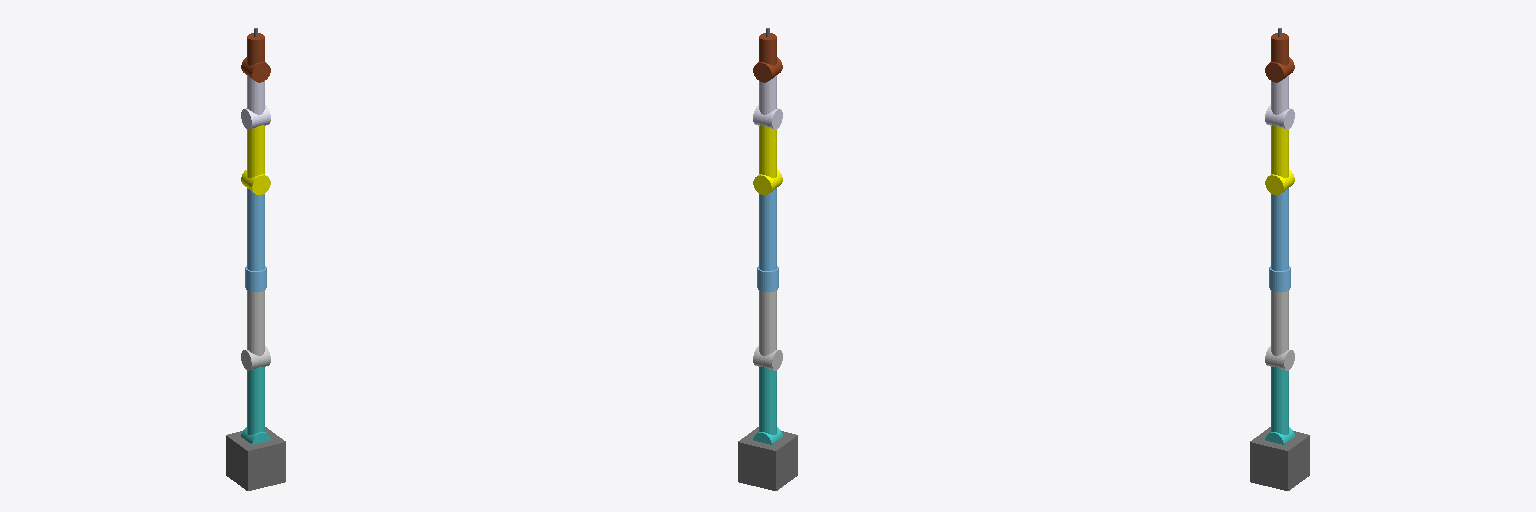
robot.urdf — test_robot:
<?xml version="1.0" ?>
<robot name="test_robot">
    <link name="base_link">
        <inertial>
            <mass value="1.0"/>
            <inertia ixx="0.010416666666666666" iyy="0.010416666666666666" izz="0.010416666666666666" ixy="0.0" ixz="0.0" iyz="0.0"/>
        </inertial>
        <visual>
            <origin xyz="0 0 0" rpy="0 0 0"/>
            <geometry>
                <box size="0.25 0.25 0.25"/>
            </geometry>
            <material name="gray">
                <color rgba="0.5 0.5 0.5 1"/>
            </material>
        </visual>
    </link>
    <joint name="joint_viz0" type="fixed">
        <parent link="base_link"/>
        <child link="joint_viz_link0"/>
        <origin xyz="0 0 0.125" rpy="0 0 0"/>
    </joint>
    <link name="joint_viz_link0">
        <inertial>
            <mass value="1.0"/>
            <inertia ixx="0.0022020833333333332" iyy="0.0022020833333333332" izz="0.0018" ixy="0.0" ixz="0.0" iyz="0.0"/>
        </inertial>
        <visual>
            <origin xyz="0 0 0" rpy="1.57 0 0"/>
            <geometry>
                <cylinder length="0.125" radius="0.06"/>
            </geometry>
            <material name="mediumturquoise">
                <color rgba="0.2823529411764706 0.8196078431372549 0.8 1.0"/>
            </material>
        </visual>
    </link>
    <joint name="joint0" type="revolute">
        <parent link="base_link"/>
        <child link="link0"/>
        <origin xyz="0 0 0.125" rpy="0 0 0"/>
        <axis xyz="0 1 0"/>
        <limit lower="-3.14" upper="3.14" effort="10" velocity="1"/>
    </joint>
    <link name="link0">
        <inertial>
            <mass value="1.0"/>
            <inertia ixx="0.021458333333333333" iyy="0.021458333333333333" izz="0.0012500000000000002" ixy="0.0" ixz="0.0" iyz="0.0"/>
        </inertial>
        <visual>
            <origin xyz="0 0 0.25" rpy="0 0 0"/>
            <geometry>
                <cylinder length="0.5" radius="0.05"/>
            </geometry>
            <material name="mediumturquoise">
                <color rgba="0.2823529411764706 0.8196078431372549 0.8 1.0"/>
            </material>
        </visual>
    </link>
    <joint name="joint_viz1" type="fixed">
        <parent link="link0"/>
        <child link="joint_viz_link1"/>
        <origin xyz="0 0 0.5" rpy="0 0 0"/>
    </joint>
    <link name="joint_viz_link1">
        <inertial>
            <mass value="1.0"/>
            <inertia ixx="0.0022020833333333332" iyy="0.0022020833333333332" izz="0.0018" ixy="0.0" ixz="0.0" iyz="0.0"/>
        </inertial>
        <visual>
            <origin xyz="0 0 0" rpy="0 1.57 0"/>
            <geometry>
                <cylinder length="0.125" radius="0.06"/>
            </geometry>
            <material name="lightgray">
                <color rgba="0.8274509803921568 0.8274509803921568 0.8274509803921568 1.0"/>
            </material>
        </visual>
    </link>
    <joint name="joint1" type="revolute">
        <parent link="link0"/>
        <child link="link1"/>
        <origin xyz="0 0 0.5" rpy="0 0 0"/>
        <axis xyz="1 0 0"/>
        <limit lower="-3.14" upper="3.14" effort="10" velocity="1"/>
    </joint>
    <link name="link1">
        <inertial>
            <mass value="1.0"/>
            <inertia ixx="0.021458333333333333" iyy="0.021458333333333333" izz="0.0012500000000000002" ixy="0.0" ixz="0.0" iyz="0.0"/>
        </inertial>
        <visual>
            <origin xyz="0 0 0.25" rpy="0 0 0"/>
            <geometry>
                <cylinder length="0.5" radius="0.05"/>
            </geometry>
            <material name="lightgray">
                <color rgba="0.8274509803921568 0.8274509803921568 0.8274509803921568 1.0"/>
            </material>
        </visual>
    </link>
    <joint name="joint_viz2" type="fixed">
        <parent link="link1"/>
        <child link="joint_viz_link2"/>
        <origin xyz="0 0 0.5" rpy="0 0 0"/>
    </joint>
    <link name="joint_viz_link2">
        <inertial>
            <mass value="1.0"/>
            <inertia ixx="0.0022020833333333332" iyy="0.0022020833333333332" izz="0.0018" ixy="0.0" ixz="0.0" iyz="0.0"/>
        </inertial>
        <visual>
            <origin xyz="0 0 0" rpy="0 0 0"/>
            <geometry>
                <cylinder length="0.125" radius="0.06"/>
            </geometry>
            <material name="lightskyblue">
                <color rgba="0.5294117647058824 0.807843137254902 0.9803921568627451 1.0"/>
            </material>
        </visual>
    </link>
    <joint name="joint2" type="revolute">
        <parent link="link1"/>
        <child link="link2"/>
        <origin xyz="0 0 0.5" rpy="0 0 0"/>
        <axis xyz="0 0 1"/>
        <limit lower="-3.14" upper="3.14" effort="10" velocity="1"/>
    </joint>
    <link name="link2">
        <inertial>
            <mass value="1.0"/>
            <inertia ixx="0.030625" iyy="0.030625" izz="0.0012500000000000002" ixy="0.0" ixz="0.0" iyz="0.0"/>
        </inertial>
        <visual>
            <origin xyz="0 0 0.3" rpy="0 0 0"/>
            <geometry>
                <cylinder length="0.6" radius="0.05"/>
            </geometry>
            <material name="lightskyblue">
                <color rgba="0.5294117647058824 0.807843137254902 0.9803921568627451 1.0"/>
            </material>
        </visual>
    </link>
    <joint name="joint_viz3" type="fixed">
        <parent link="link2"/>
        <child link="joint_viz_link3"/>
        <origin xyz="0 0 0.6" rpy="0 0 0"/>
    </joint>
    <link name="joint_viz_link3">
        <inertial>
            <mass value="1.0"/>
            <inertia ixx="0.0022020833333333332" iyy="0.0022020833333333332" izz="0.0018" ixy="0.0" ixz="0.0" iyz="0.0"/>
        </inertial>
        <visual>
            <origin xyz="0 0 0" rpy="1.57 0 0"/>
            <geometry>
                <cylinder length="0.125" radius="0.06"/>
            </geometry>
            <material name="yellow">
                <color rgba="1.0 1.0 0.0 1.0"/>
            </material>
        </visual>
    </link>
    <joint name="joint3" type="revolute">
        <parent link="link2"/>
        <child link="link3"/>
        <origin xyz="0 0 0.6" rpy="0 0 0"/>
        <axis xyz="0 1 0"/>
        <limit lower="-3.14" upper="3.14" effort="10" velocity="1"/>
    </joint>
    <link name="link3">
        <inertial>
            <mass value="1.0"/>
            <inertia ixx="0.013958333333333336" iyy="0.013958333333333336" izz="0.0012500000000000002" ixy="0.0" ixz="0.0" iyz="0.0"/>
        </inertial>
        <visual>
            <origin xyz="0 0 0.2" rpy="0 0 0"/>
            <geometry>
                <cylinder length="0.4" radius="0.05"/>
            </geometry>
            <material name="yellow">
                <color rgba="1.0 1.0 0.0 1.0"/>
            </material>
        </visual>
    </link>
    <joint name="joint_viz4" type="fixed">
        <parent link="link3"/>
        <child link="joint_viz_link4"/>
        <origin xyz="0 0 0.4" rpy="0 0 0"/>
    </joint>
    <link name="joint_viz_link4">
        <inertial>
            <mass value="1.0"/>
            <inertia ixx="0.0022020833333333332" iyy="0.0022020833333333332" izz="0.0018" ixy="0.0" ixz="0.0" iyz="0.0"/>
        </inertial>
        <visual>
            <origin xyz="0 0 0" rpy="0 1.57 0"/>
            <geometry>
                <cylinder length="0.125" radius="0.06"/>
            </geometry>
            <material name="lavender">
                <color rgba="0.9019607843137255 0.9019607843137255 0.9803921568627451 1.0"/>
            </material>
        </visual>
    </link>
    <joint name="joint4" type="revolute">
        <parent link="link3"/>
        <child link="link4"/>
        <origin xyz="0 0 0.4" rpy="0 0 0"/>
        <axis xyz="1 0 0"/>
        <limit lower="-3.14" upper="3.14" effort="10" velocity="1"/>
    </joint>
    <link name="link4">
        <inertial>
            <mass value="1.0"/>
            <inertia ixx="0.008125" iyy="0.008125" izz="0.0012500000000000002" ixy="0.0" ixz="0.0" iyz="0.0"/>
        </inertial>
        <visual>
            <origin xyz="0 0 0.15" rpy="0 0 0"/>
            <geometry>
                <cylinder length="0.3" radius="0.05"/>
            </geometry>
            <material name="lavender">
                <color rgba="0.9019607843137255 0.9019607843137255 0.9803921568627451 1.0"/>
            </material>
        </visual>
    </link>
    <joint name="joint_viz5" type="fixed">
        <parent link="link4"/>
        <child link="joint_viz_link5"/>
        <origin xyz="0 0 0.3" rpy="0 0 0"/>
    </joint>
    <link name="joint_viz_link5">
        <inertial>
            <mass value="1.0"/>
            <inertia ixx="0.0022020833333333332" iyy="0.0022020833333333332" izz="0.0018" ixy="0.0" ixz="0.0" iyz="0.0"/>
        </inertial>
        <visual>
            <origin xyz="0 0 0" rpy="1.57 0 0"/>
            <geometry>
                <cylinder length="0.125" radius="0.06"/>
            </geometry>
            <material name="sienna">
                <color rgba="0.6274509803921569 0.3215686274509804 0.17647058823529413 1.0"/>
            </material>
        </visual>
    </link>
    <joint name="joint5" type="revolute">
        <parent link="link4"/>
        <child link="link5"/>
        <origin xyz="0 0 0.3" rpy="0 0 0"/>
        <axis xyz="0 1 0"/>
        <limit lower="-3.14" upper="3.14" effort="10" velocity="1"/>
    </joint>
    <link name="link5">
        <inertial>
            <mass value="1.0"/>
            <inertia ixx="0.003958333333333334" iyy="0.003958333333333334" izz="0.0012500000000000002" ixy="0.0" ixz="0.0" iyz="0.0"/>
        </inertial>
        <visual>
            <origin xyz="0 0 0.1" rpy="0 0 0"/>
            <geometry>
                <cylinder length="0.2" radius="0.05"/>
            </geometry>
            <material name="sienna">
                <color rgba="0.6274509803921569 0.3215686274509804 0.17647058823529413 1.0"/>
            </material>
        </visual>
    </link>
    <joint name="probe_joint" type="fixed">
        <parent link="link5"/>
        <child link="probe_link"/>
        <origin xyz="0 0 0.2" rpy="0 0 0"/>
    </joint>
    <link name="probe_link">
        <inertial>
            <mass value="1.0"/>
            <inertia ixx="0.0008583333333333335" iyy="0.0008583333333333335" izz="5e-05" ixy="0.0" ixz="0.0" iyz="0.0"/>
        </inertial>
        <visual>
            <origin xyz="0 0 0" rpy="0 0 0"/>
            <geometry>
                <cylinder length="0.1" radius="0.01"/>
            </geometry>
            <material name="gray">
                <color rgba="0.5 0.5 0.5 1"/>
            </material>
        </visual>
    </link>
    <joint name="end_effector_joint" type="fixed">
        <parent link="probe_link"/>
        <child link="end_effector"/>
        <origin xyz="0 0 0.1" rpy="0 0 0"/>
    </joint>
    <link name="end_effector">
        <inertial>
            <mass value="1.0"/>
            <inertia ixx="0.0" iyy="0.0" izz="0.0" ixy="0.0" ixz="0.0" iyz="0.0"/>
        </inertial>
        <visual>
            <origin xyz="0 0 0" rpy="0 0 0"/>
            <geometry>
                <cylinder length="0" radius="0"/>
            </geometry>
            <material name="gray">
                <color rgba="0.5 0.5 0.5 1"/>
            </material>
        </visual>
    </link>
</robot>

--- Facts derived from the render (not from the file) ---
Views: 3 orthographic renders of the robot side by side, from view 1: azimuth 30°, elevation 25°; view 2: azimuth 150°, elevation 25°; view 3: azimuth 330°, elevation 25°.
Model test_robot with 15 links and 14 joints (6 revolute, 8 fixed), rooted at base_link, posed all joints at 0.
Links seen in each view (by area): view 1: base_link, link2, link0, link1, link3, link4; view 2: base_link, link2, link0, link1, link3, link4; view 3: base_link, link2, link0, link1, link3, link4.
Boxes of the visible links, x1,y1,x2,y2 form: base_link: [226, 427, 285, 490]; link2: [247, 188, 264, 270]; link0: [247, 366, 264, 434]; link1: [247, 290, 264, 355]; link3: [247, 125, 264, 177]; link4: [247, 75, 264, 114]; base_link: [738, 427, 797, 490]; link2: [759, 188, 776, 270]; link0: [759, 366, 776, 434]; link1: [759, 290, 776, 355]; link3: [759, 125, 776, 177]; link4: [759, 75, 776, 114]; base_link: [1250, 427, 1309, 490]; link2: [1271, 188, 1288, 270]; link0: [1271, 366, 1288, 434]; link1: [1271, 290, 1288, 355]; link3: [1271, 125, 1288, 177]; link4: [1271, 75, 1288, 114].
Size in the robot's own frame: 0.25 by 0.25 by 2.85 metres.
Geometry: primitives only (box / cylinder / sphere), no mesh files.